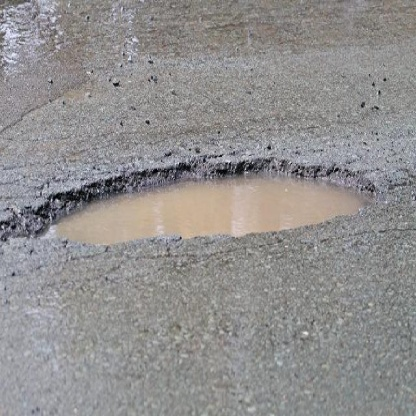pothole: (1, 127, 398, 269)
